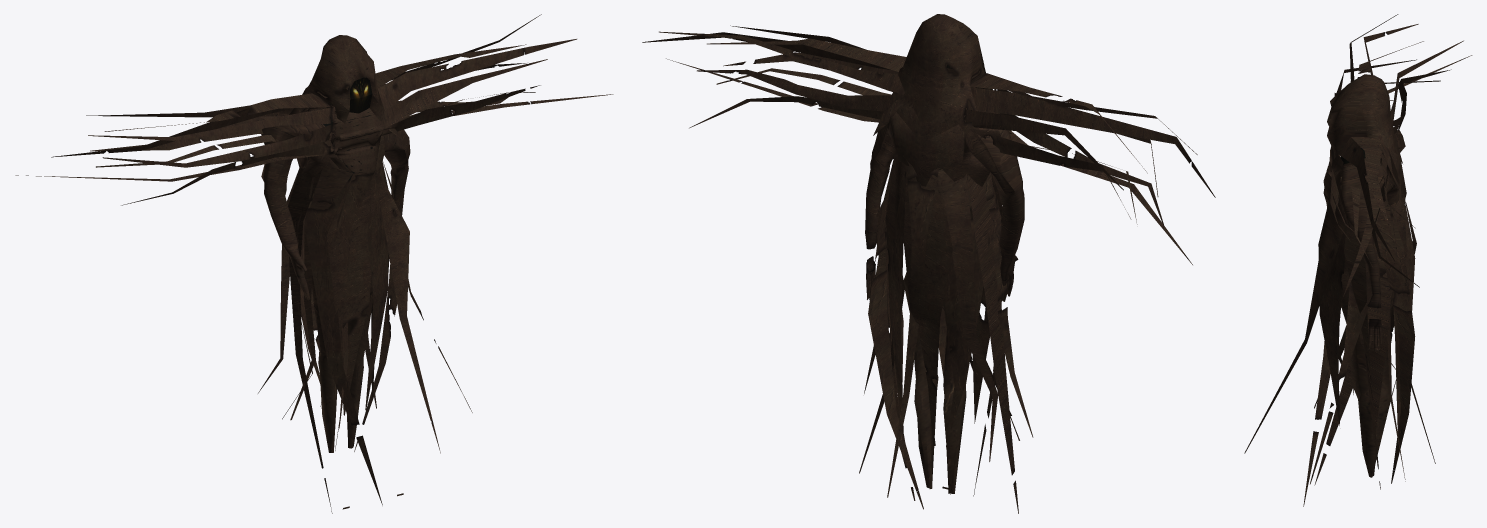
The model's file is wraith_anim.fbx.
3 renders of one model, left to right at view 1: azimuth 30°, elevation 25°; view 2: azimuth 150°, elevation 25°; view 3: azimuth 270°, elevation 25°, orthographic. The views are drawn at different scales.
Parts seen in each view (by area): view 1: Ruce, Telo, Hlava; view 2: Ruce, Telo, Hlava; view 3: Ruce, Telo, Hlava.
Part boxes in pixels (x1,y1,x2,y2): Ruce: [15, 14, 613, 513]; Telo: [261, 101, 410, 509]; Hlava: [289, 35, 402, 159]; Ruce: [642, 25, 1215, 513]; Telo: [865, 65, 1024, 494]; Hlava: [873, 14, 990, 142]; Ruce: [1244, 14, 1472, 506]; Telo: [1334, 130, 1406, 477]; Hlava: [1327, 74, 1402, 190].
Size of the model in its own units: 85.81 by 69.05 by 33.44.
